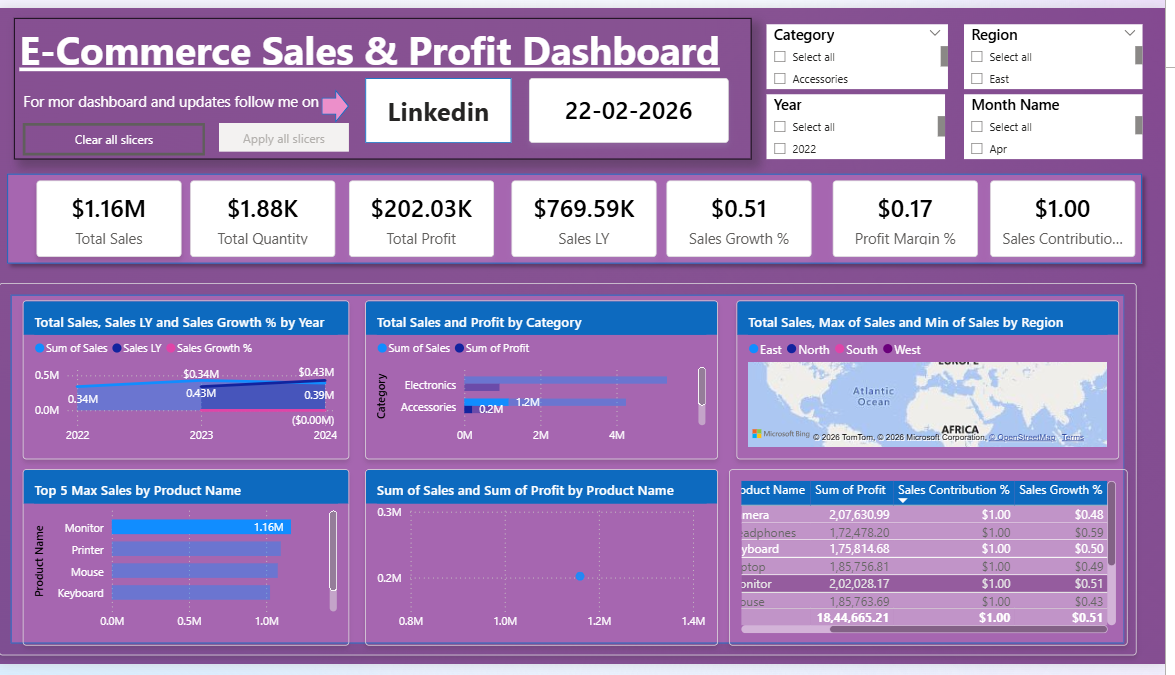

What the dashboard file says about the page in this screenshot:
{"tool":"powerbi","page":{"name":"Page 1","canvas":[1280,720],"ordinal":0},"visuals":[{"type":"textbox","box":[16.5,11,809.6,155.1],"z":0},{"type":"shape","box":[0,172.9,1263.8,116.6],"z":1000},{"type":"card","fields":{"Values":["My Dax Function.Total Sales"]},"box":[41.2,189.4,159.2,83.7],"z":2000},{"type":"card","fields":{"Values":["My Dax Function.Today"]},"box":[581.8,76.8,219.6,71.4],"z":3000},{"type":"shape","box":[402.1,76.8,160.5,71.4],"z":4000},{"type":"shape","box":[354,89.2,30.2,37],"z":5000},{"type":"card","fields":{"Values":["My Dax Function.Profit Margin %"]},"box":[915.3,189.4,159.2,83.7],"z":6000},{"type":"card","fields":{"Values":["My Dax Function.Sales Growth %"]},"box":[732.8,189.4,159.2,83.7],"z":7000},{"type":"card","fields":{"Values":["My Dax Function.Sales LY"]},"box":[562.6,189.4,159.2,83.7],"z":8000},{"type":"card","fields":{"Values":["My Dax Function.Total Profit"]},"box":[384.2,189.4,159.2,83.7],"z":9000},{"type":"card","fields":{"Values":["My Dax Function.Total Quantity"]},"box":[209.9,189.4,159.2,83.7],"z":10000},{"type":"card","fields":{"Values":["My Dax Function.Sales Contribution %"]},"box":[1088.2,189.4,159.2,83.7],"z":11000},{"type":"shape","box":[0,301.9,1248.7,408.9],"z":12000},{"type":"lineChart","title":"Total Sales, Sales LY and Sales Growth % by Year","fields":{"Category":["Dim Date.Date.Variation.Date Hierarchy.Year","Dim Date.Date.Variation.Date Hierarchy.Quarter","Dim Date.Date.Variation.Date Hierarchy.Month","Dim Date.Date.Variation.Date Hierarchy.Day"],"Y":["Sum(ecommerce_sales & Profit_data.Sales)","My Dax Function.Sales LY","My Dax Function.Sales Growth %"]},"box":[26.1,321.1,358.1,174.3],"z":13000},{"type":"clusteredBarChart","title":"Total Sales and Profit by Category","fields":{"Category":["ecommerce_sales & Profit_data.Category"],"Y":["Sum(ecommerce_sales & Profit_data.Sales)","Sum(ecommerce_sales & Profit_data.Profit)"]},"box":[402.1,321.1,387,174.3],"z":14000},{"type":"map","title":"Total Sales, Max of Sales and Min of Sales by Region","fields":{"Series":["ecommerce_sales & Profit_data.Region"],"Size":["Sum(ecommerce_sales & Profit_data.Sales)"]},"box":[809.6,321.1,419.9,174.3],"z":15000},{"type":"clusteredBarChart","title":"Top 5 Max Sales by Product Name","fields":{"Category":["ecommerce_sales & Profit_data.Product Name"],"Y":["Sum(ecommerce_sales & Profit_data.Sales)"]},"box":[26.1,506.3,358.1,193.5],"z":16000},{"type":"scatterChart","fields":{"Category":["ecommerce_sales & Profit_data.Product Name"],"X":["Sum(ecommerce_sales & Profit_data.Sales)"],"Y":["Sum(ecommerce_sales & Profit_data.Profit)"]},"box":[402.1,506.3,387,193.5],"z":17000},{"type":"tableEx","fields":{"Values":["Sum(ecommerce_sales & Profit_data.Quantity)","ecommerce_sales & Profit_data.Product Name","Sum(ecommerce_sales & Profit_data.Profit)","My Dax Function.Sales Contribution %","My Dax Function.Sales Growth %"]},"box":[801.4,506.3,437.7,193.5],"z":17001},{"type":"slicer","fields":{"Values":["ecommerce_sales & Profit_data.Category"]},"box":[842.5,17.8,199,71.4],"z":17002},{"type":"slicer","fields":{"Values":["ecommerce_sales & Profit_data.Region"]},"box":[1059.4,17.8,196.2,71.4],"z":17003},{"type":"slicer","fields":{"Values":["Dim Date.Month Name"]},"box":[1059.4,94.7,196.2,71.4],"z":17004},{"type":"slicer","fields":{"Values":["Dim Date.Year"]},"box":[842.5,94.7,196.2,71.4],"z":17005},{"type":"actionButton","box":[26.1,126.2,200.3,35.7],"z":17006},{"type":"actionButton","box":[241.5,126.2,142.7,31.6],"z":17007}]}

Visuals, with their boxes in screenshot pixels (x1, y1, x2, y2), scaled from the page's 1280x720 canvas onto the 1175x675 screenshot:
textbox: 15:10:758:156
shape: 0:162:1160:271
card - My Dax Function.Total Sales: 38:178:184:256
card - My Dax Function.Today: 534:72:736:139
shape: 369:72:516:139
shape: 325:84:353:118
card - My Dax Function.Profit Margin %: 840:178:986:256
card - My Dax Function.Sales Growth %: 673:178:819:256
card - My Dax Function.Sales LY: 516:178:663:256
card - My Dax Function.Total Profit: 353:178:499:256
card - My Dax Function.Total Quantity: 193:178:339:256
card - My Dax Function.Sales Contribution %: 999:178:1145:256
shape: 0:283:1146:666
"Total Sales, Sales LY and Sales Growth % by Year" lineChart: 24:301:353:464
"Total Sales and Profit by Category" clusteredBarChart: 369:301:724:464
"Total Sales, Max of Sales and Min of Sales by Region" map: 743:301:1129:464
"Top 5 Max Sales by Product Name" clusteredBarChart: 24:475:353:656
scatterChart - ecommerce_sales & Profit_data.Product Name x Sum(ecommerce_sales & Profit_data.Sales): 369:475:724:656
tableEx - Sum(ecommerce_sales & Profit_data.Quantity) x ecommerce_sales & Profit_data.Product Name: 736:475:1137:656
slicer - ecommerce_sales & Profit_data.Category: 773:17:956:84
slicer - ecommerce_sales & Profit_data.Region: 972:17:1153:84
slicer - Dim Date.Month Name: 972:89:1153:156
slicer - Dim Date.Year: 773:89:953:156
actionButton: 24:118:208:152
actionButton: 222:118:353:148
